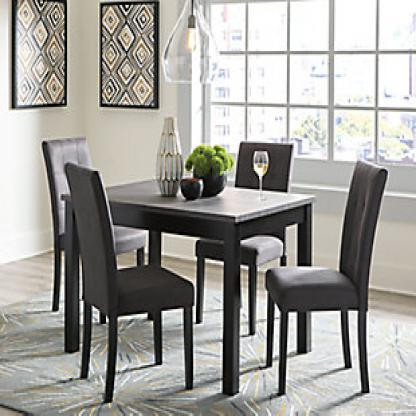chair: (263, 152, 397, 399), (69, 164, 191, 404), (192, 139, 296, 317), (37, 137, 146, 284)
light: (162, 0, 221, 85)
table: (68, 174, 324, 392)
